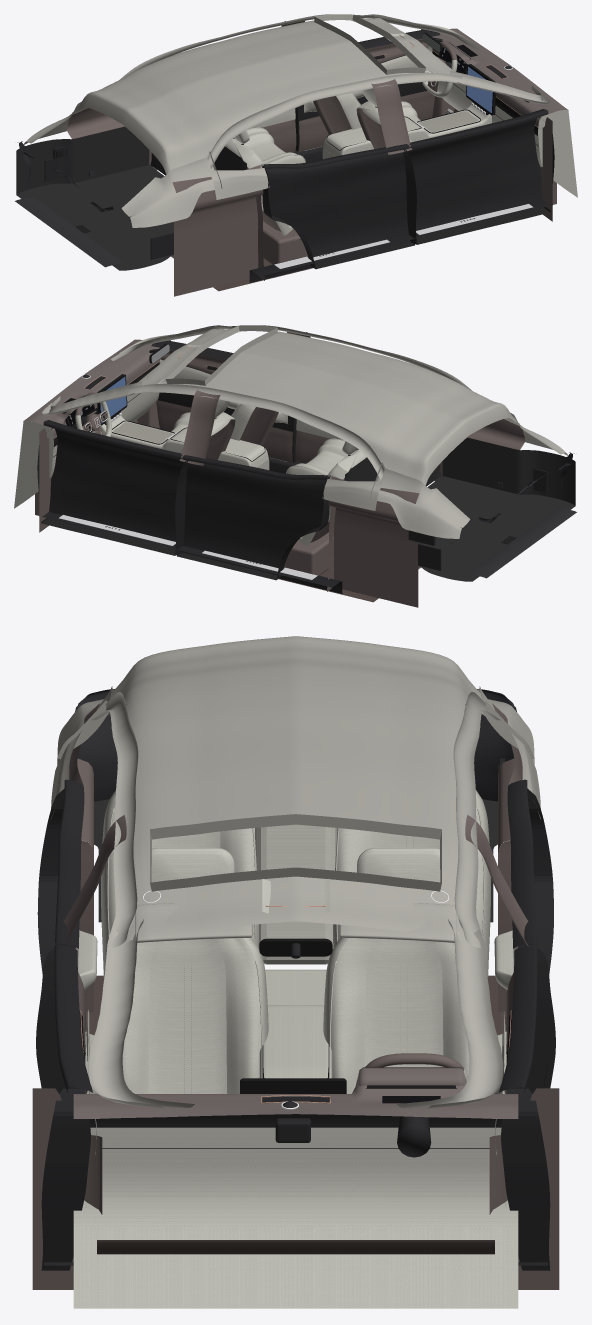
Rendered from zeekr-7x-interior.glb.
The picture shows the model from 3 angles, top to bottom: view 1: azimuth 30°, elevation 25°; view 2: azimuth 150°, elevation 25°; view 3: azimuth 270°, elevation 25°; orthographic projection. The views are drawn at different scales.
Visible parts, largest first — view 1: Zeekr7X_Cabin, int_headliner, int_rdoor_R, int_door_R, int_cpillar, int_door_L, int_qtr_lower, int_rdoor_L, screen_main; view 2: Zeekr7X_Cabin, int_headliner, int_rdoor_L, int_door_L, int_cpillar, int_door_R, int_qtr_lower, int_rdoor_R, screen_main; view 3: Zeekr7X_Cabin, int_headliner, int_door_L, int_door_R, int_rdoor_R, int_rdoor_L, int_tailgate, int_cpillar, int_cpillar_flange, int_qtr_lower.
Part boxes in pixels (<box>): Zeekr7X_Cabin: <box>15,14,577,296</box>; int_headliner: <box>75,14,445,174</box>; int_rdoor_R: <box>260,144,415,269</box>; int_door_R: <box>405,109,554,244</box>; int_cpillar: <box>23,102,214,227</box>; int_door_L: <box>295,29,440,151</box>; int_qtr_lower: <box>209,168,269,199</box>; int_rdoor_L: <box>249,108,296,152</box>; screen_main: <box>466,66,492,112</box>; Zeekr7X_Cabin: <box>14,325,576,607</box>; int_headliner: <box>146,325,516,485</box>; int_rdoor_L: <box>176,455,331,580</box>; int_door_L: <box>37,420,186,555</box>; int_cpillar: <box>377,413,568,538</box>; int_door_R: <box>151,340,296,462</box>; int_qtr_lower: <box>322,479,382,510</box>; int_rdoor_R: <box>295,419,342,463</box>; screen_main: <box>100,376,126,423</box>; Zeekr7X_Cabin: <box>32,692,559,1308</box>; int_headliner: <box>107,636,484,942</box>; int_door_L: <box>494,944,555,1270</box>; int_door_R: <box>36,944,97,1270</box>; int_rdoor_R: <box>36,779,97,1037</box>; int_rdoor_L: <box>494,779,555,1037</box>; int_tailgate: <box>75,689,516,801</box>; int_cpillar: <box>57,686,534,764</box>; int_cpillar_flange: <box>57,700,534,759</box>; int_qtr_lower: <box>51,731,540,819</box>.
Size of the model in its own units: 3.66 by 1.29 by 1.8.
Materials: 24 (2 with a texture image).
